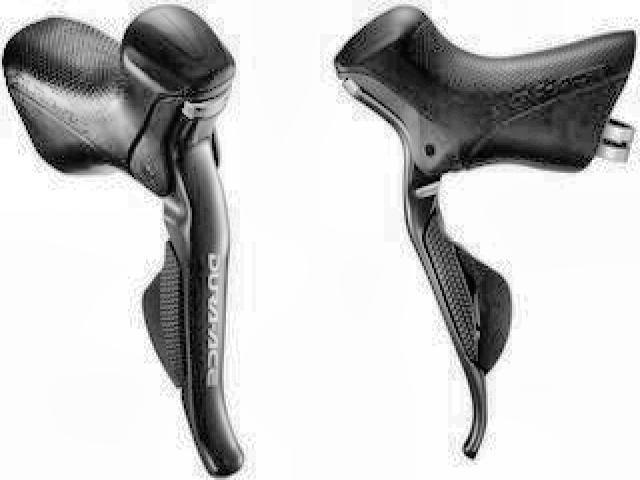sti_shifter: (327, 5, 634, 456), (2, 5, 248, 479)
